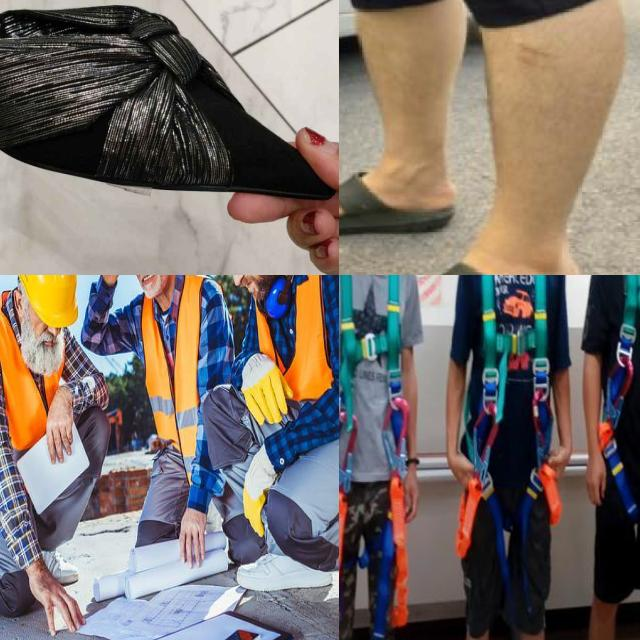Harness: (453, 275, 562, 599), (339, 275, 407, 639), (598, 275, 640, 550)
No_Ear-Protection: (13, 290, 23, 322)
Sandals: (0, 0, 339, 233), (339, 135, 464, 241)
face_nomask: (20, 308, 64, 377), (233, 275, 278, 302), (138, 275, 169, 299)
hand_noglove: (25, 557, 85, 635), (241, 353, 292, 424), (242, 445, 278, 536), (46, 385, 74, 463), (180, 509, 206, 567)
head_helmet: (18, 275, 78, 327)
